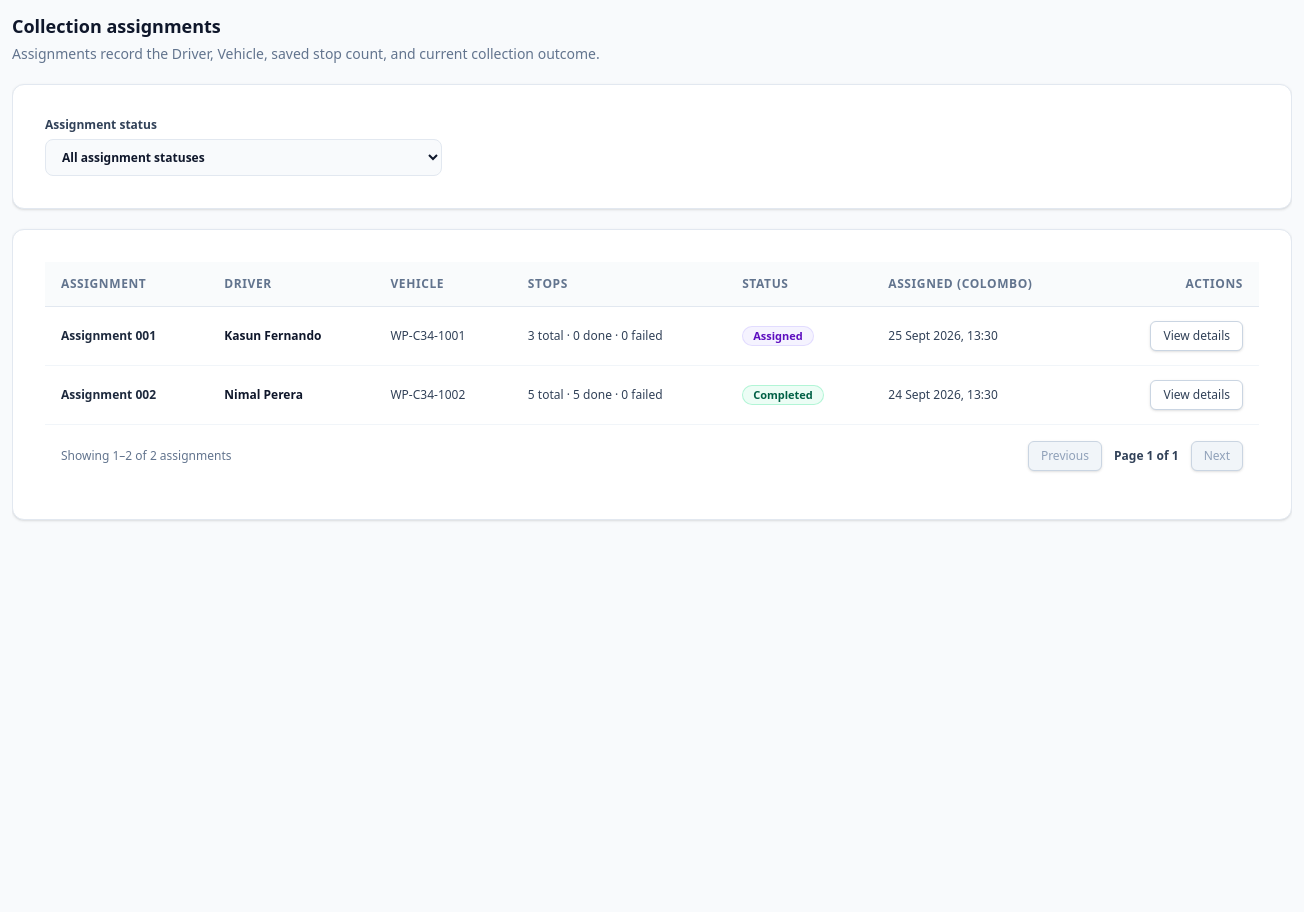
Test: AssignmentsSection › switches to AssignmentDetailPanel when View details is clicked
Expected: the text "WP-C34-1001" is shown, [374,306,512,366]
Expected: the text "Assignment 001" is shown, [45,306,208,366]
Click the button "View details" in the row of "Assignment 001" at coordinates (1197, 336), box [1150,321,1243,351]
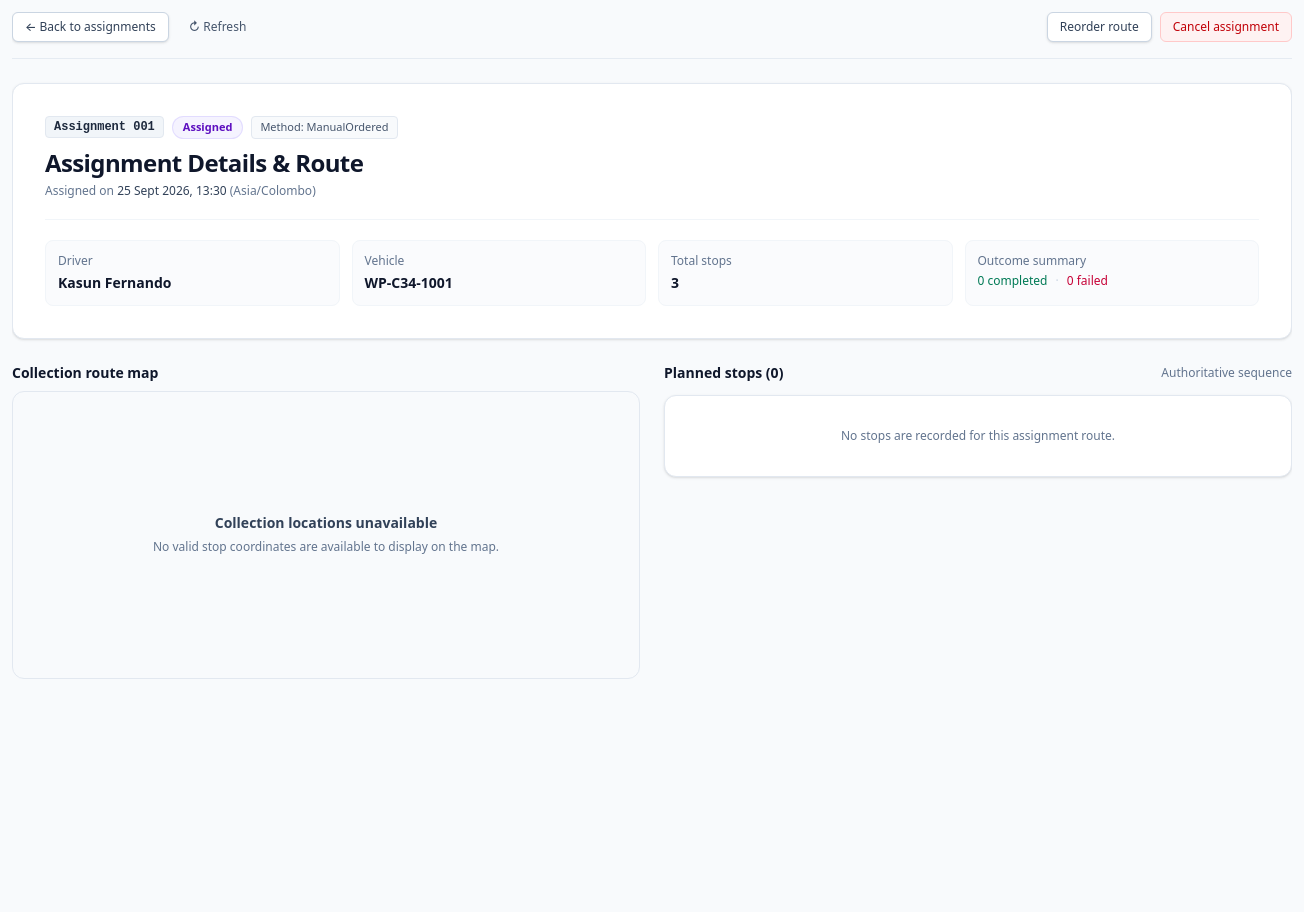
Expected: the element with test id "assignment-detail-panel" is shown
Expected: the button "← Back to assignments" is shown
Clicking back returns to the table
Click the button "← Back to assignments" at coordinates (90, 27), box [12,12,169,42]
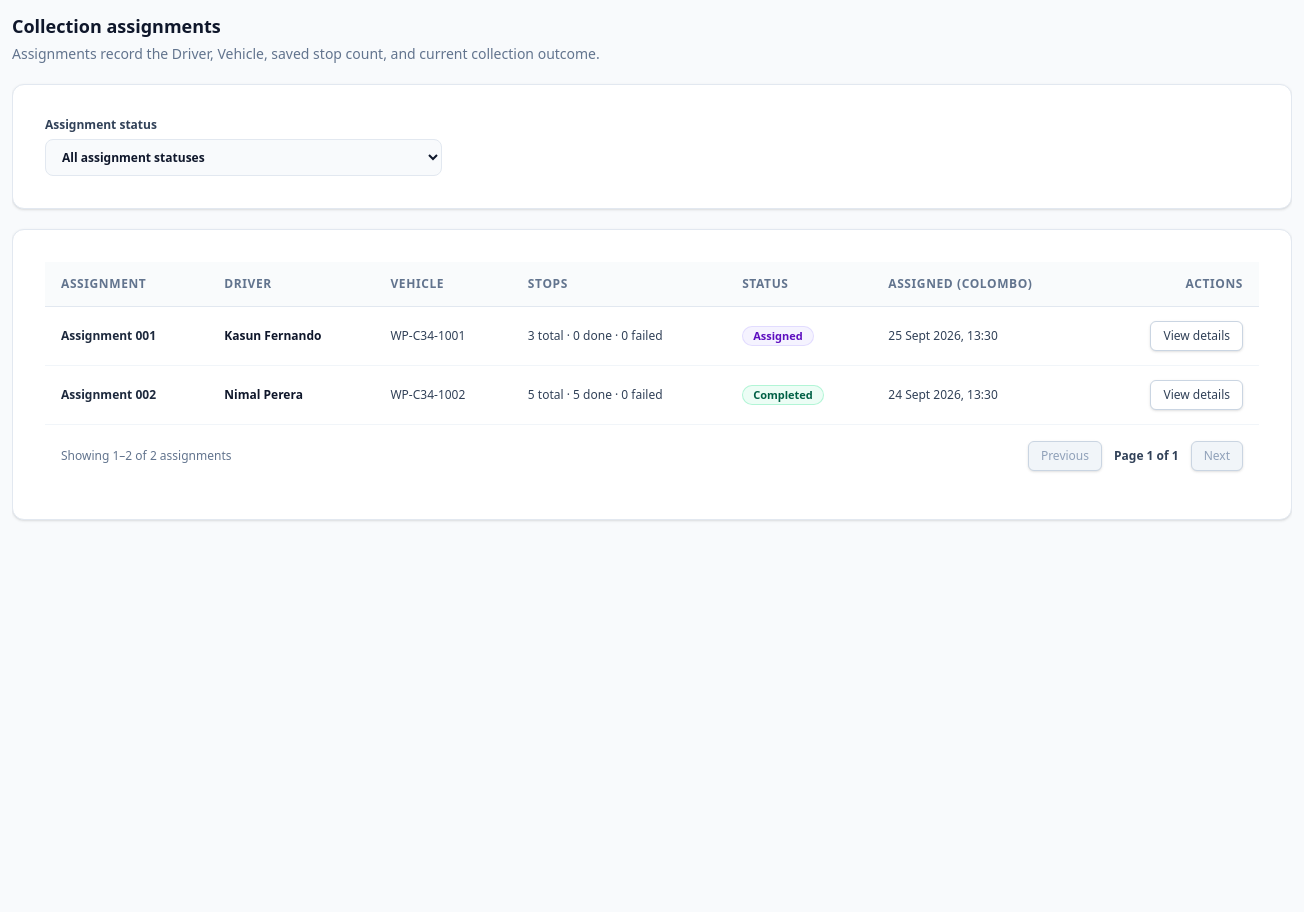
Expected: the element with test id "assignments-section" is shown, [12,12,1292,520]
